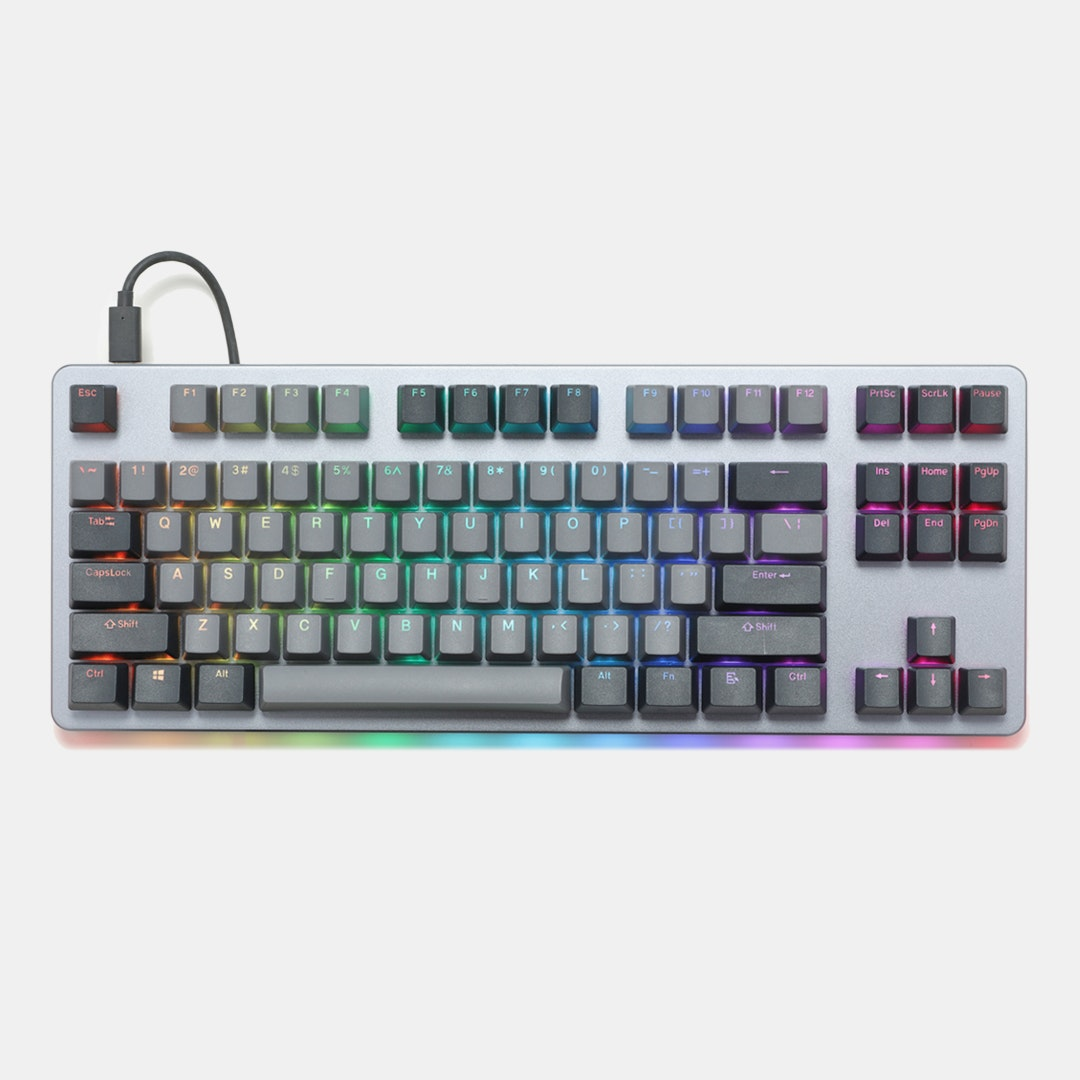keyboard: (53, 370, 1027, 731)
